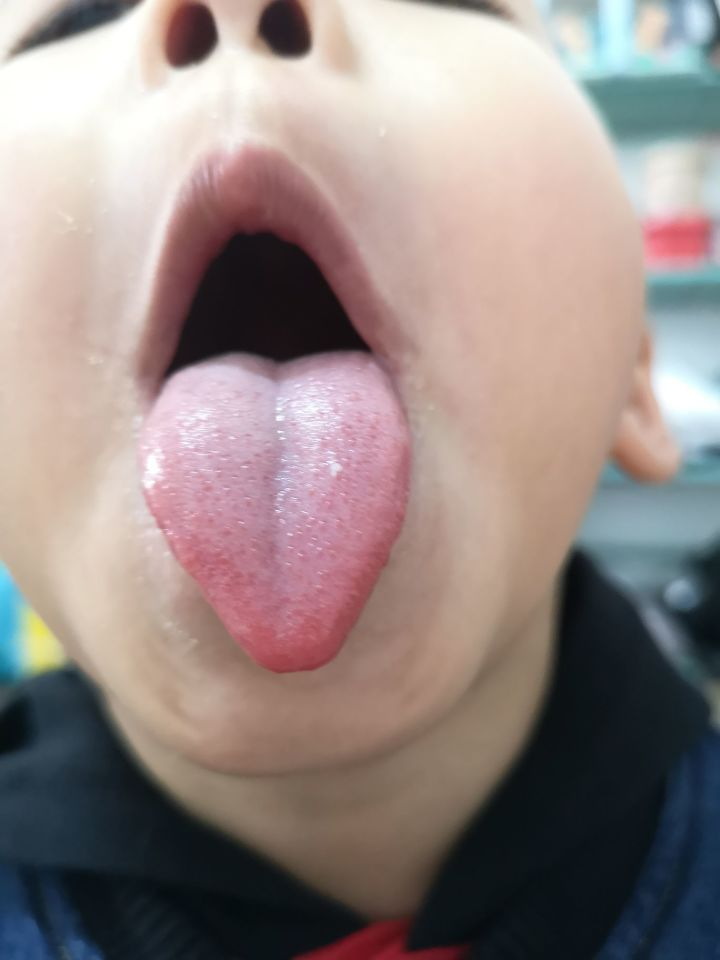baitaishe: (138, 352, 410, 672)
hongshe: (138, 352, 410, 672)
